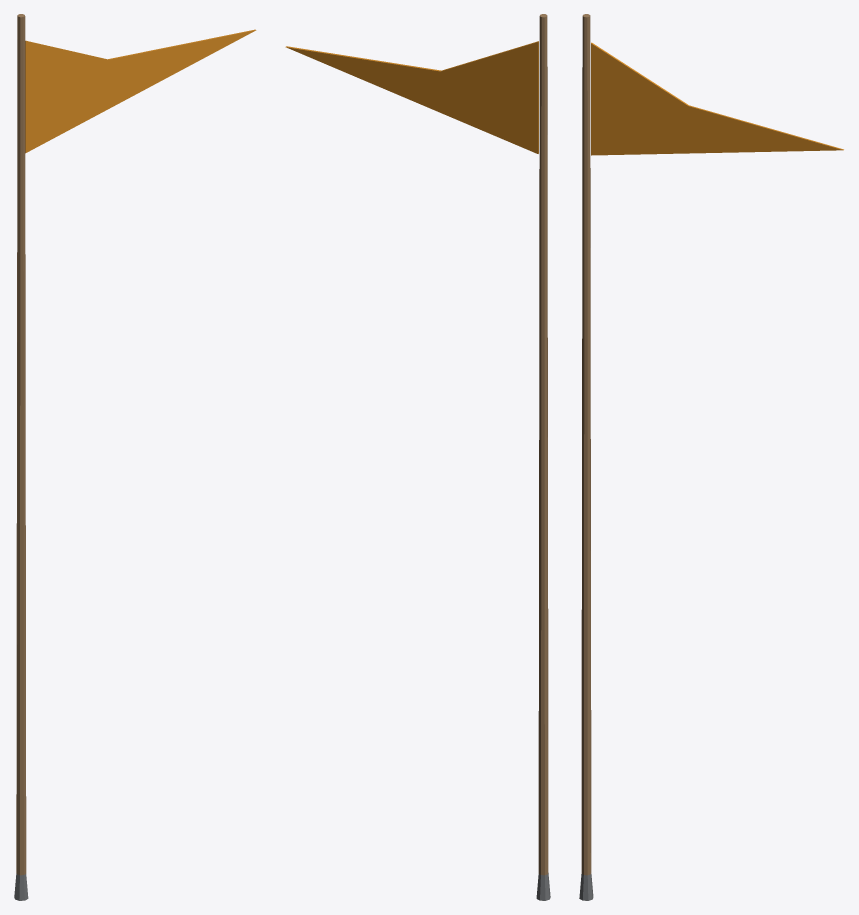
Rendered from flag-drop.glb.
The picture shows the model from 3 angles, left to right: view 1: azimuth 30°, elevation 25°; view 2: azimuth 150°, elevation 25°; view 3: azimuth 330°, elevation 25°; orthographic projection.
Parts seen in each view (by area): view 1: flag-drop; view 2: flag-drop; view 3: flag-drop.
Part boxes in pixels (box(x1,y1,x2,y2)): flag-drop: box(14, 14, 256, 900); flag-drop: box(285, 14, 550, 900); flag-drop: box(579, 14, 843, 900).
Bounding box in the file's own units: 0.8 × 2.67 × 0.086.
